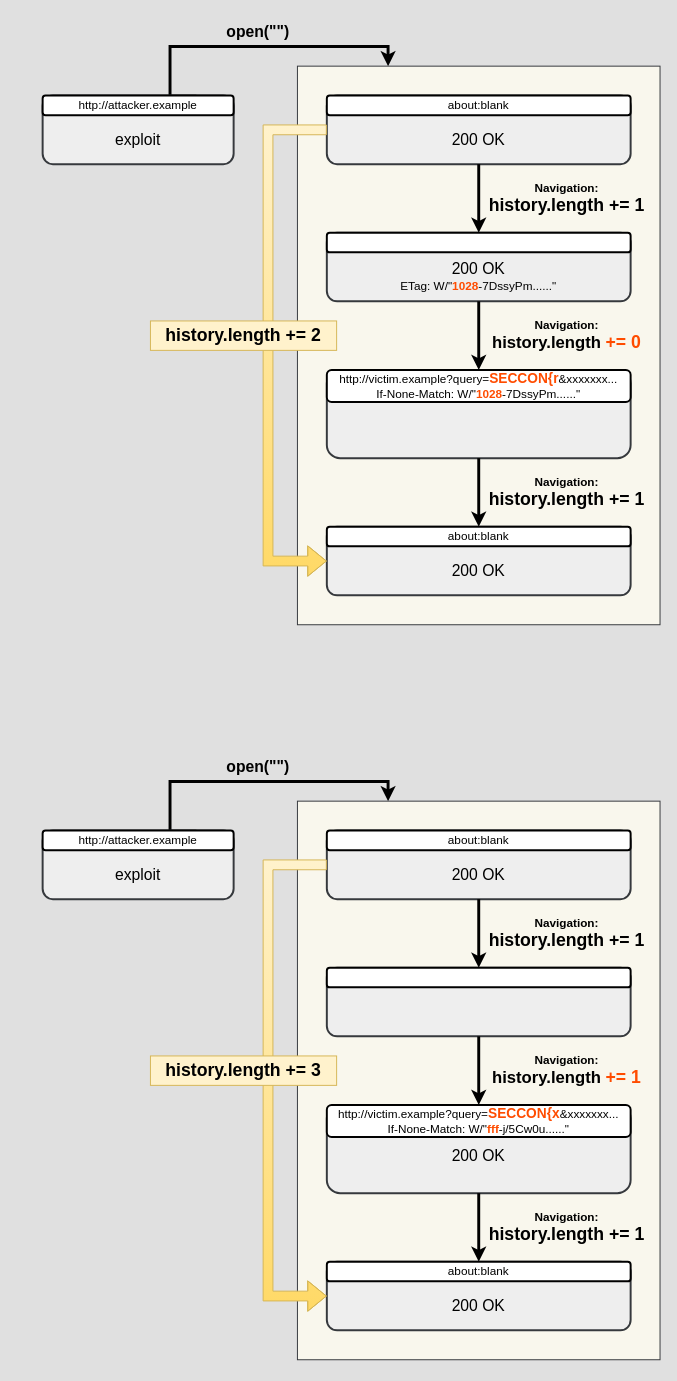
This 677x1381 diagram has some shape labels left out. The shapes that lost their labels are listed below. From the top down, each one's box as (x1, y1, x2, y2) in pixels, then its label:
(325, 231, 631, 253): http://victim.example?query= SE C CON{r &xxxxxxx...
(325, 368, 631, 459): 431 Request Header Fields Too Large
(325, 966, 631, 988): http://victim.example?query= SE C CON{x &xxxxxxx...
(325, 966, 631, 1037): 200 OK ETag: W/" fff -j/5Cw0u......"
